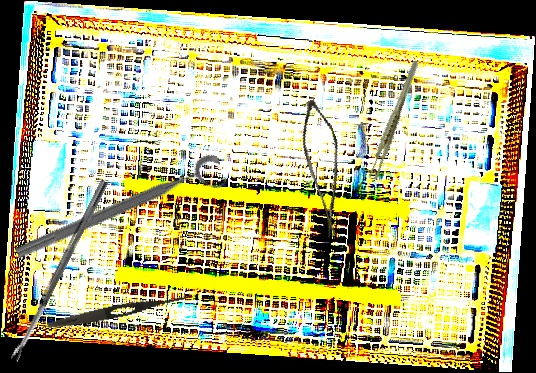Dressing Forceps: (46, 288, 194, 333)
Fixation Ring: (11, 151, 231, 277)
Micro Scissor: (282, 96, 368, 239)
Surgical Spoon: (9, 179, 109, 362)
Tissue Forceps: (349, 58, 440, 183)
